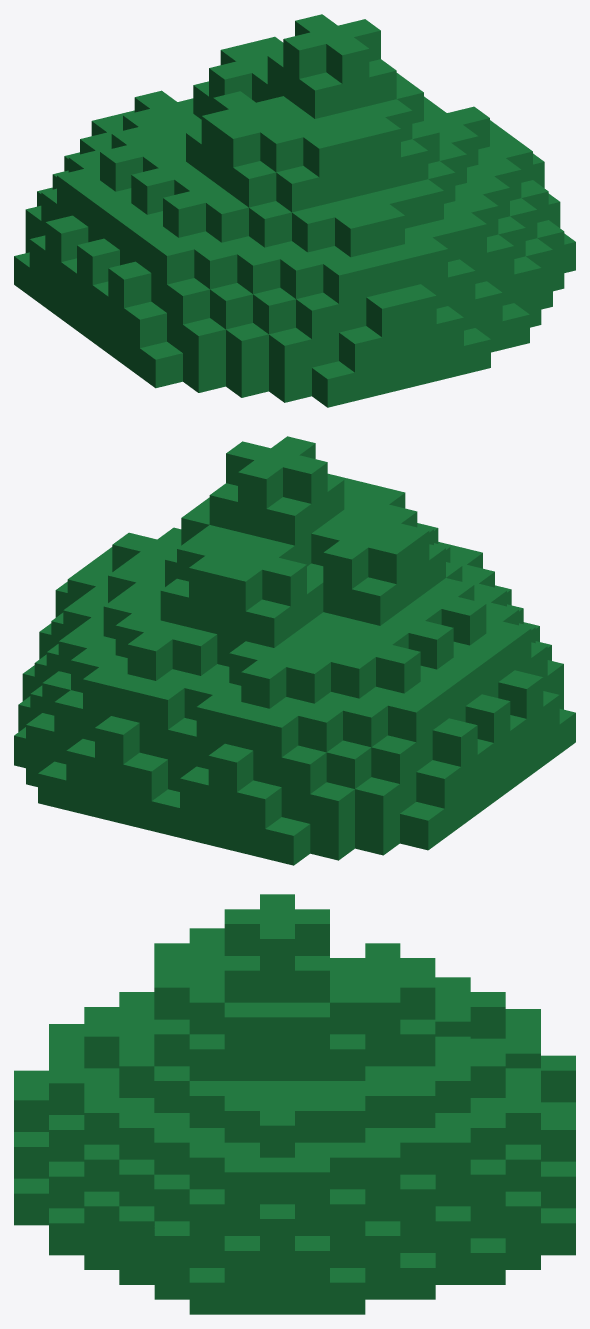
Rendered from arbusto_pequeño_01.fbx.
3 views of the same model, one above another, from view 1: azimuth 30°, elevation 25°; view 2: azimuth 150°, elevation 25°; view 3: azimuth 270°, elevation 25° (orthographic). The views are drawn at different scales.
Visible parts, largest first — view 1: arbusto_Pequeño01; view 2: arbusto_Pequeño01; view 3: arbusto_Pequeño01.
Boxes of the visible parts, box(x1,y1,x2,y2) form: arbusto_Pequeño01: box(14, 14, 575, 407); arbusto_Pequeño01: box(14, 436, 575, 865); arbusto_Pequeño01: box(14, 894, 575, 1314).
Size of the model in its own units: 160 by 90 by 160.
Materials: 1 (1 with a texture image).
